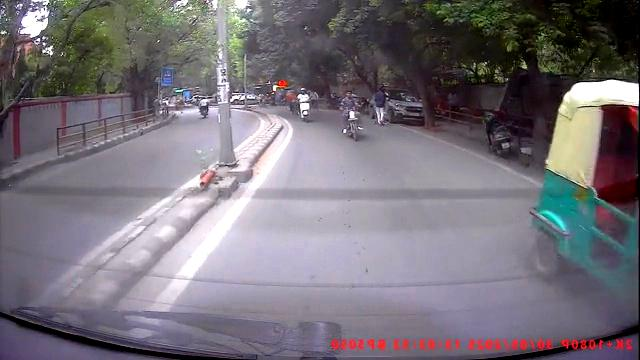motorcycle_with_helmet: (297, 86, 311, 123)
motorcycle_without_helmet: (340, 88, 363, 144)
